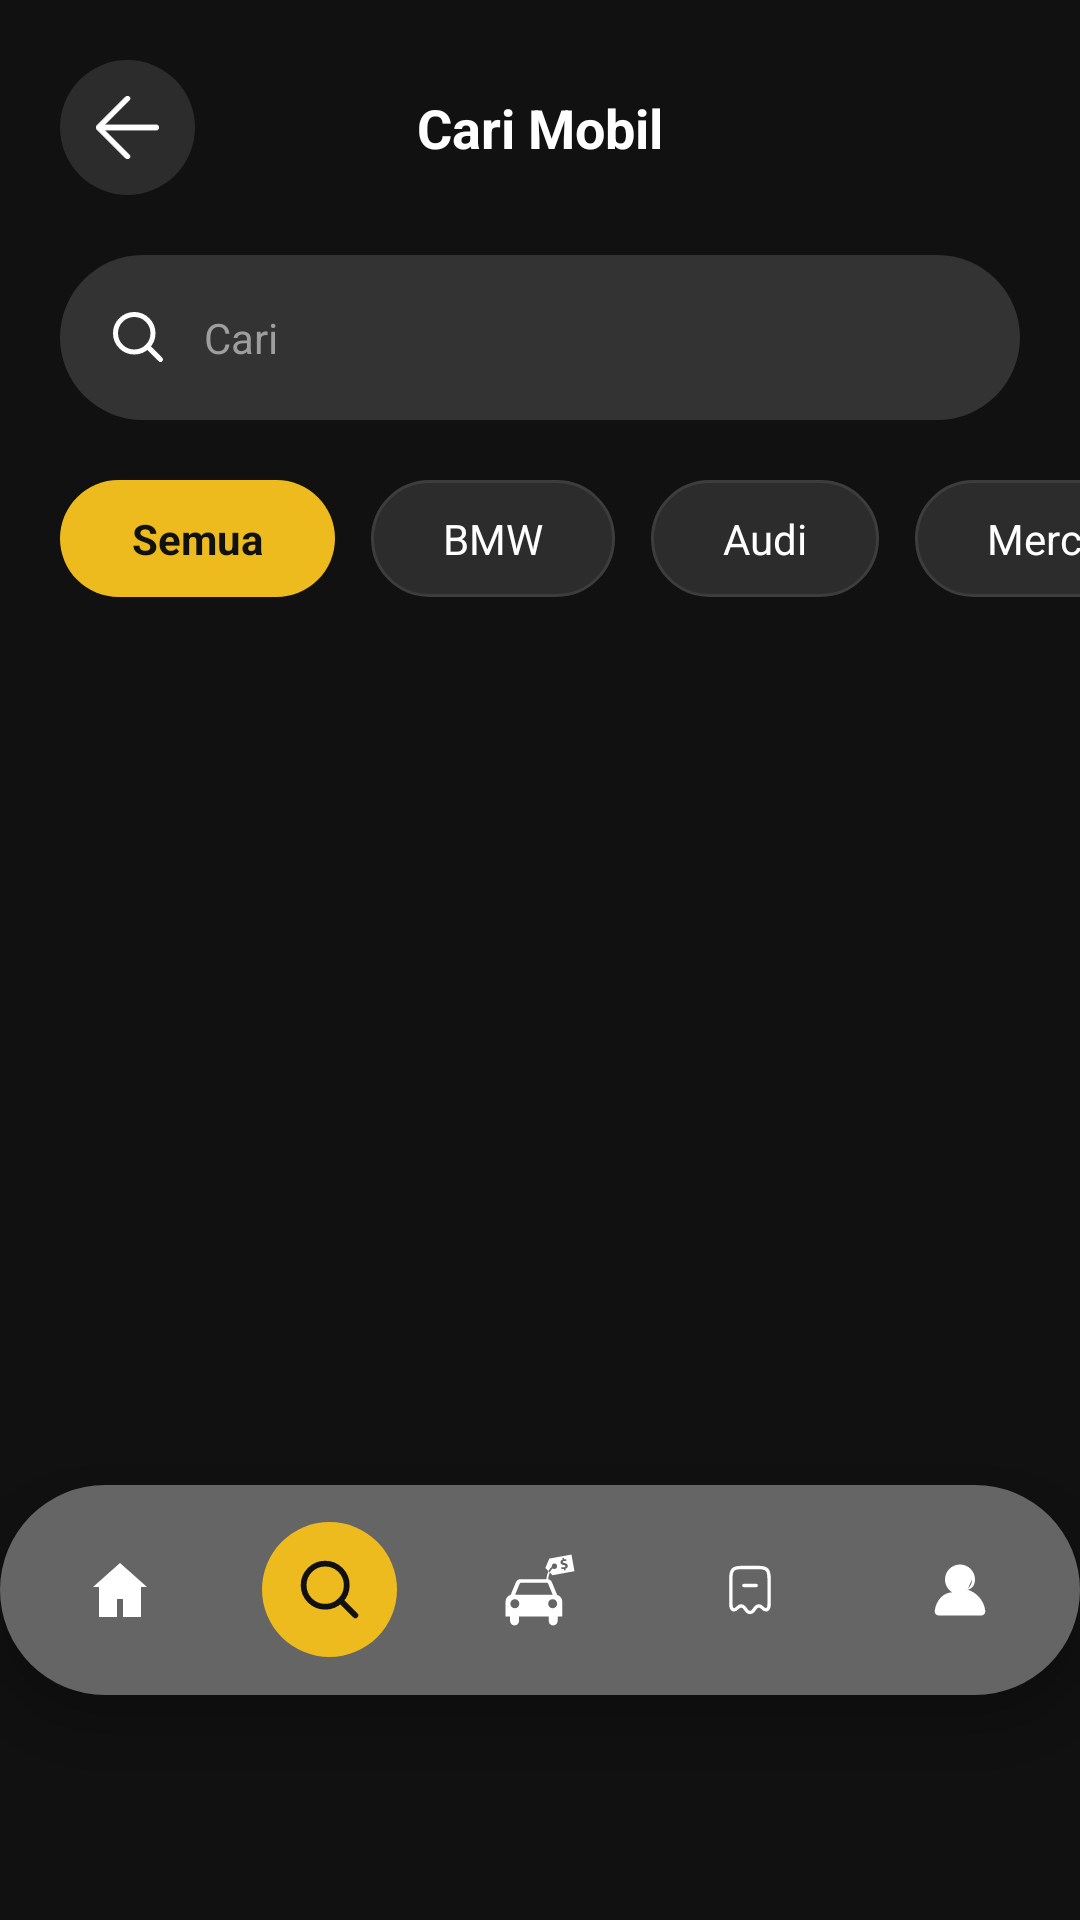

Named icons in this screenshot (1080 x 1920) and their centers, point (x, y):
back arrow: point (127, 127)
home: point (120, 1590)
profile: point (960, 1590)
search: point (138, 337), point (329, 1589)
sell: point (540, 1590)
transaction: point (750, 1589)
